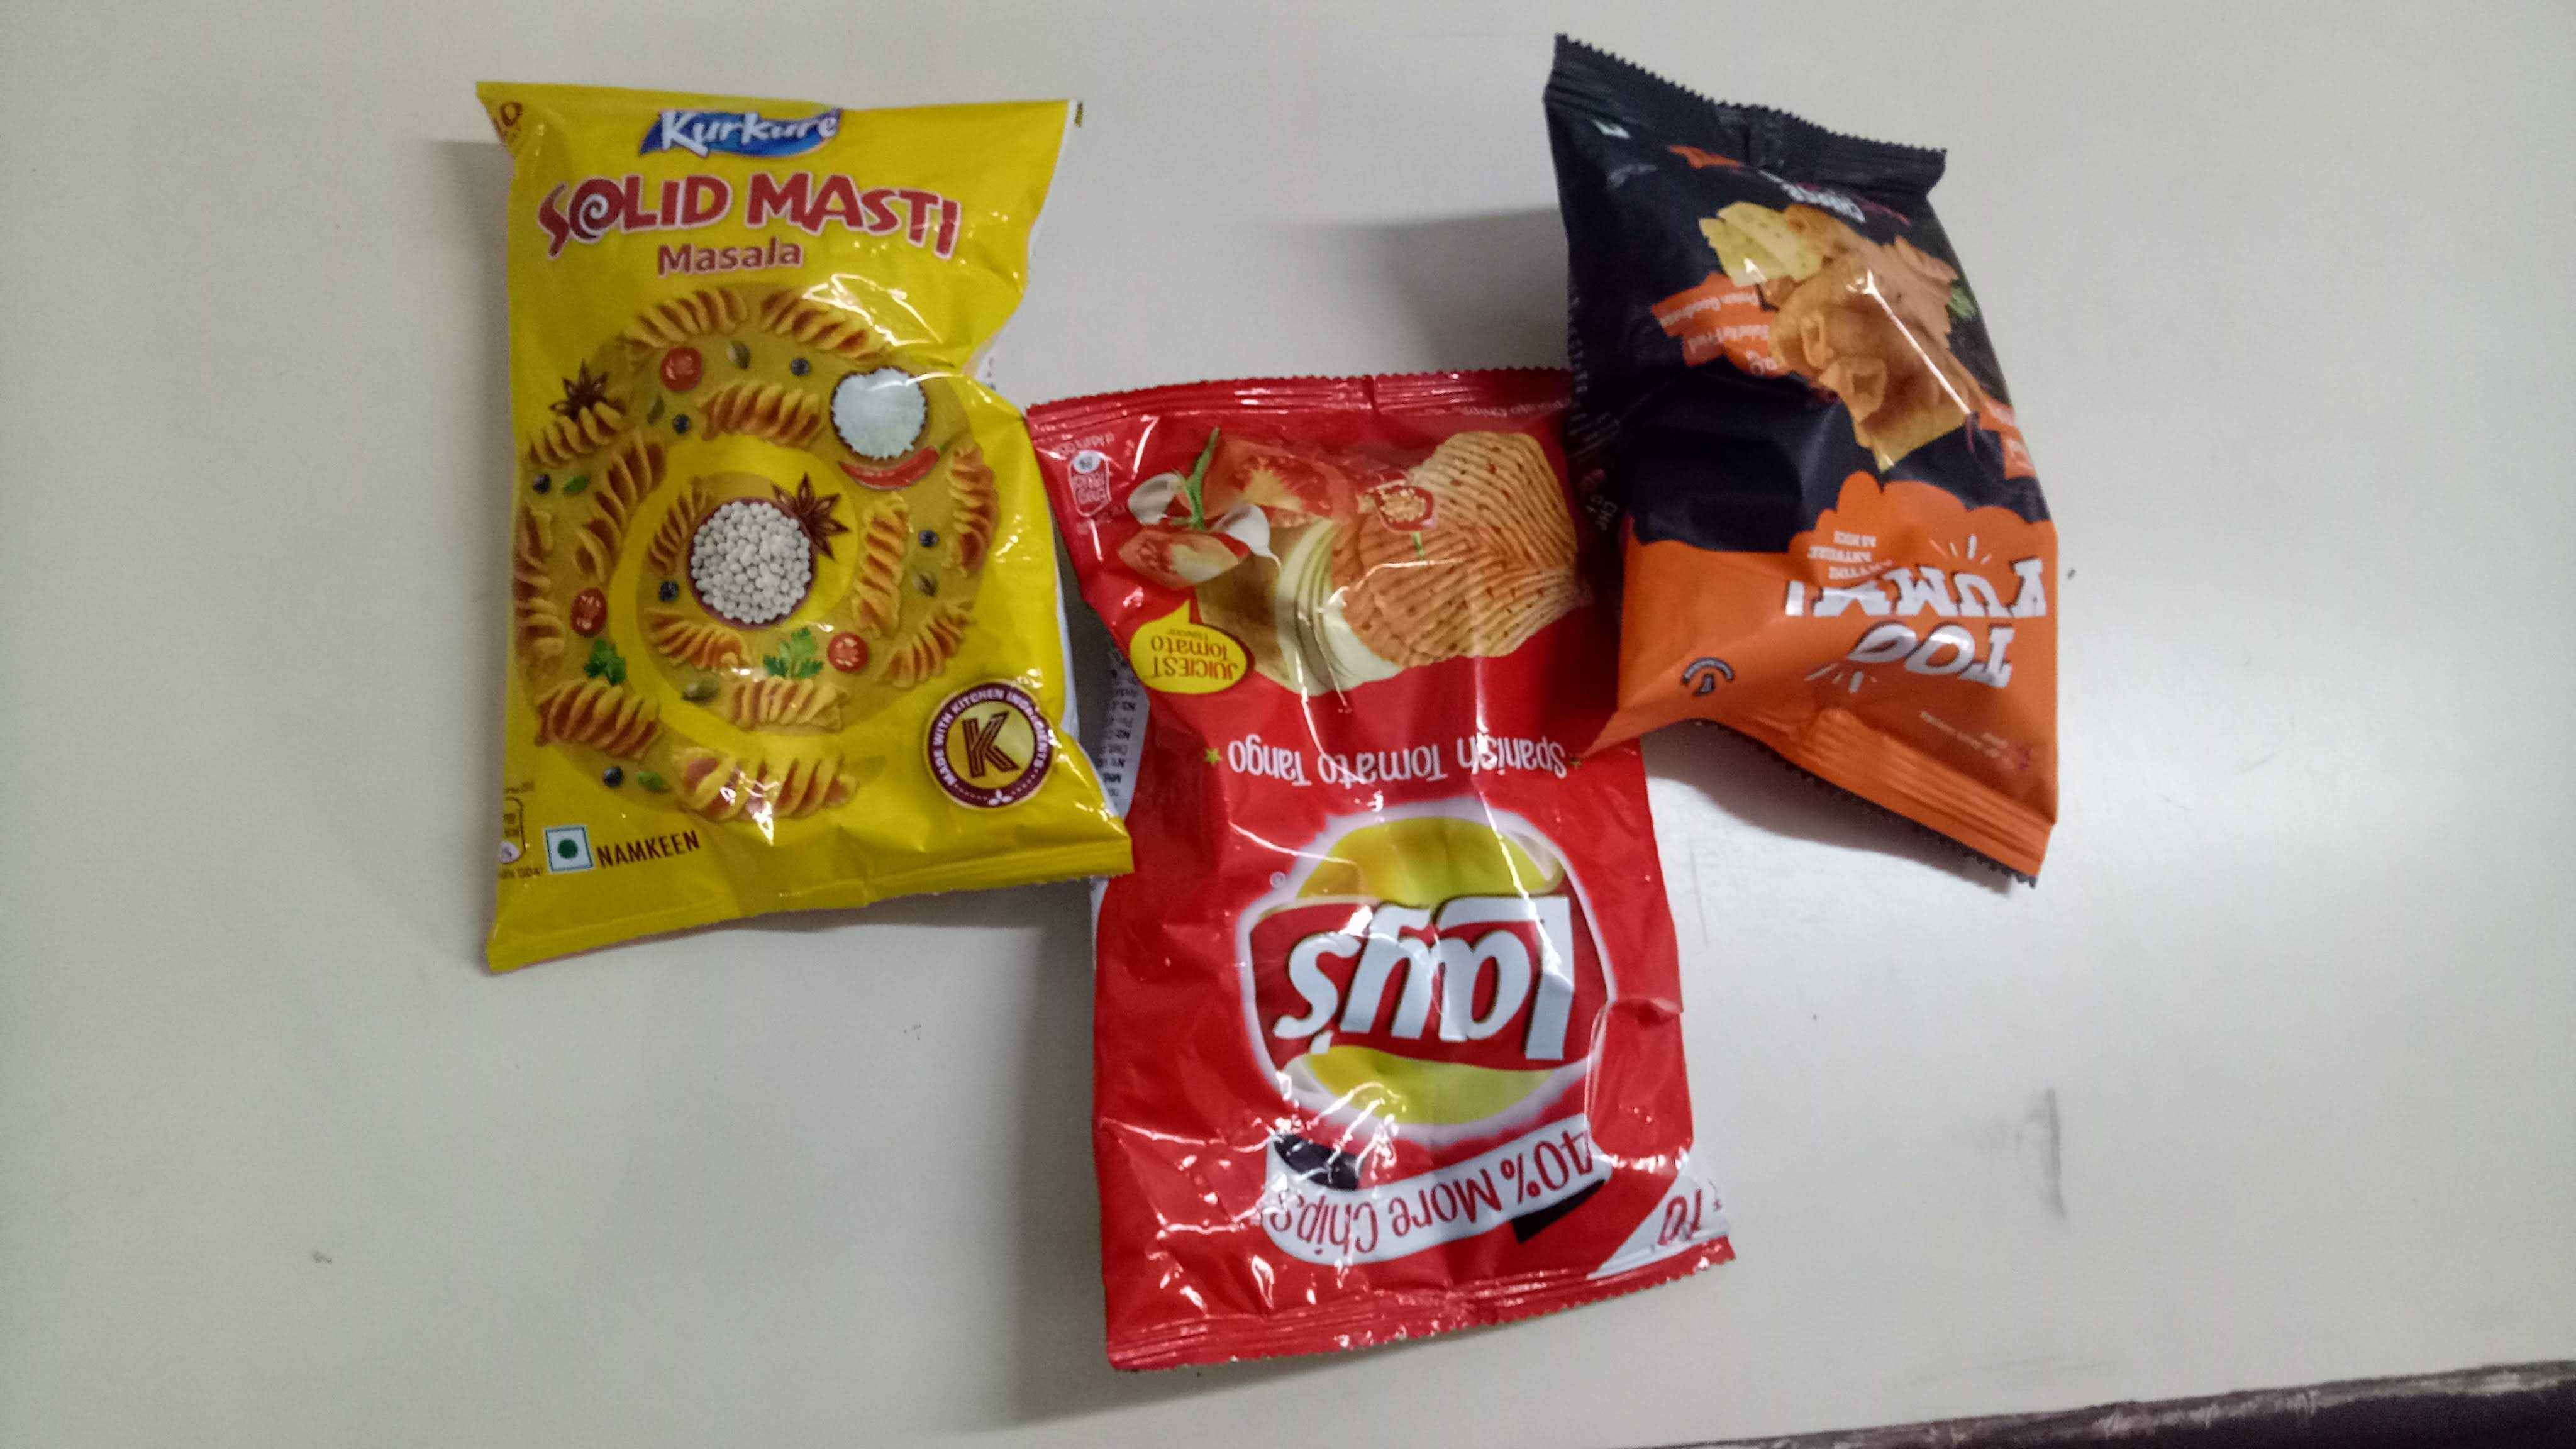Lays: (1231, 786, 1635, 1134)
kurkure: (632, 111, 878, 163)
tooyumm: (1780, 543, 2058, 717)
